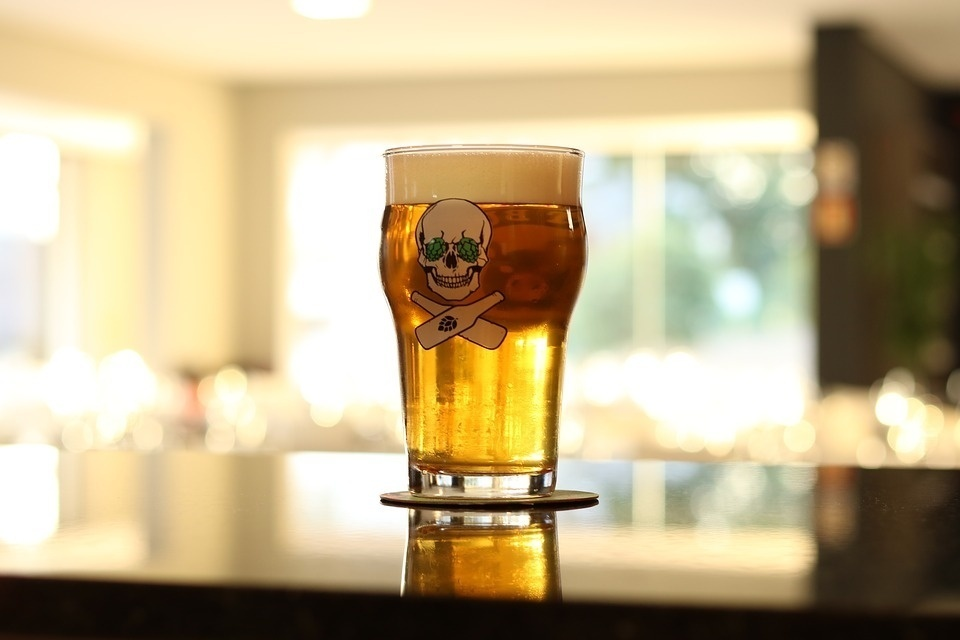whiskey: (375, 138, 578, 506)
